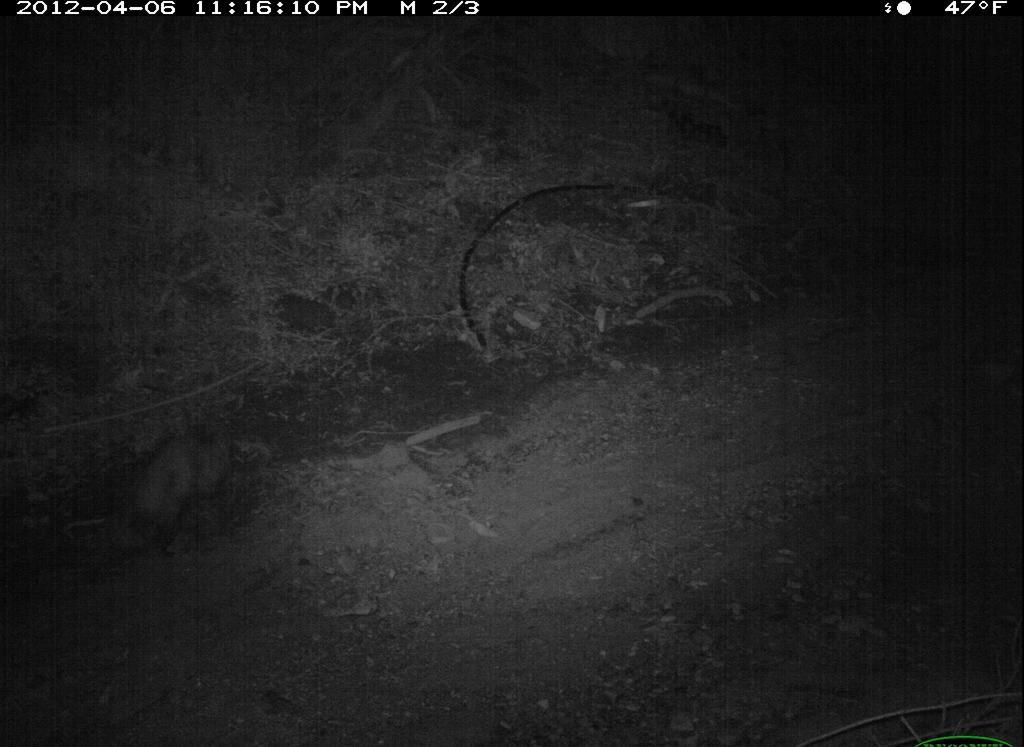opossum: (105, 418, 251, 555)
